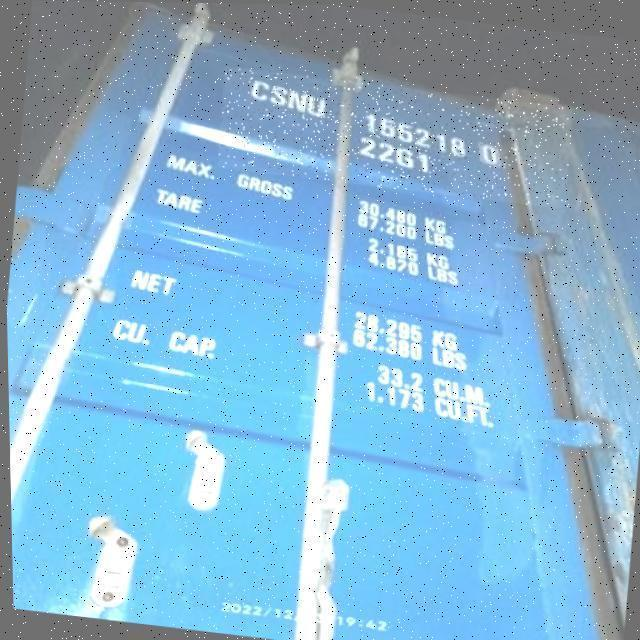ISO: (358, 138, 430, 180)
container_number: (242, 69, 516, 167)
